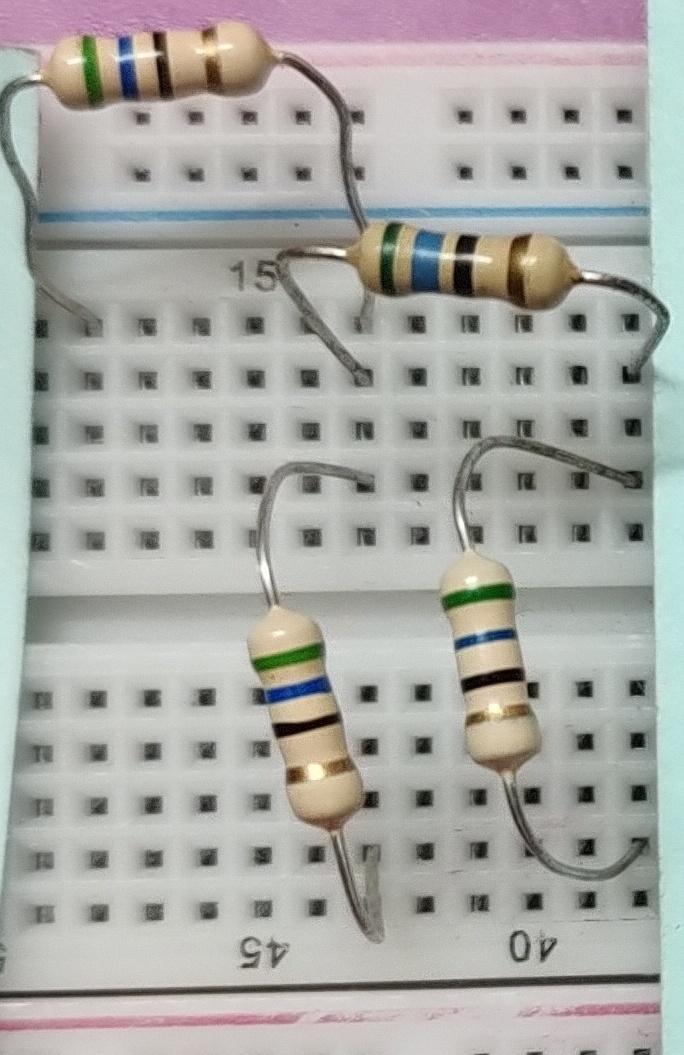resistor: (340, 198, 600, 342), (245, 592, 382, 842), (33, 0, 272, 138), (440, 552, 550, 788)
